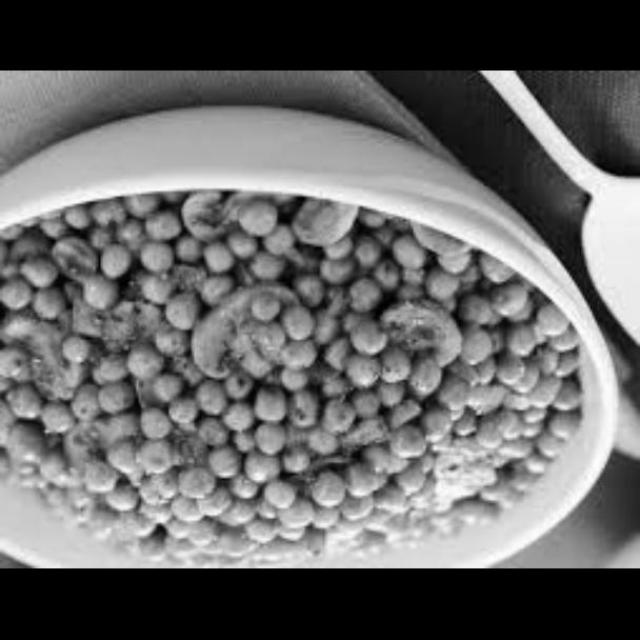dau ha lan: (19, 415, 303, 560), (429, 407, 596, 561), (277, 228, 411, 368), (71, 212, 232, 294), (458, 284, 542, 441), (310, 461, 416, 556), (35, 344, 186, 403), (174, 384, 323, 440), (317, 359, 411, 436), (397, 254, 487, 316), (0, 270, 61, 338), (0, 350, 36, 410)
